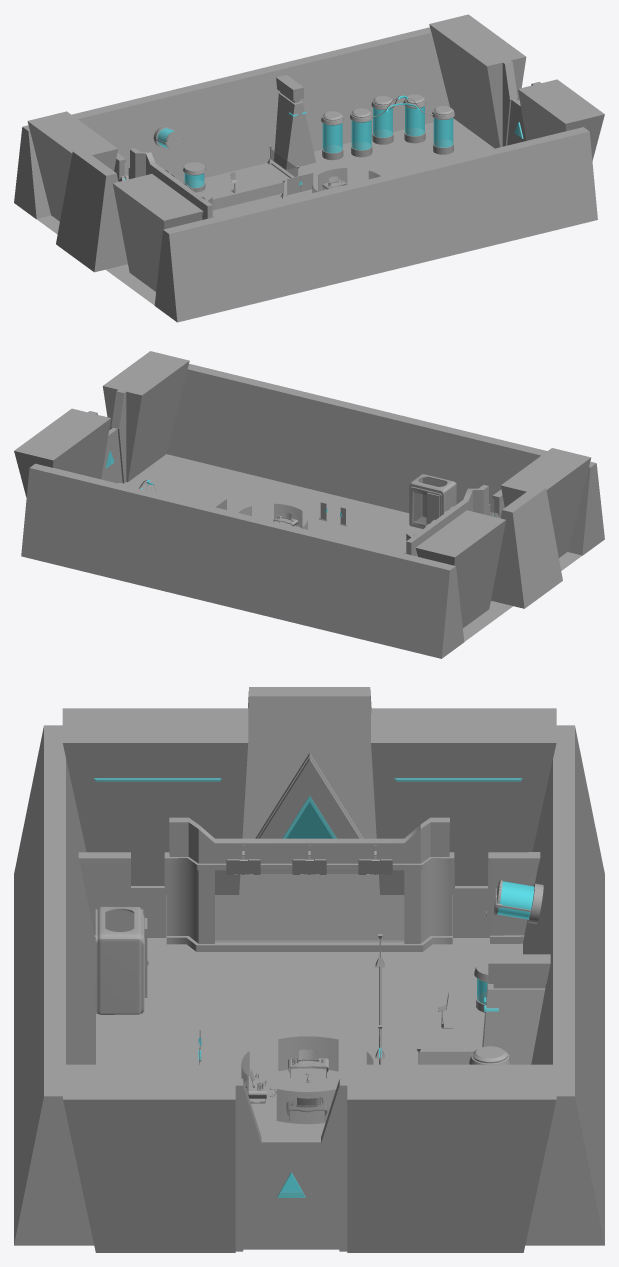
The model's file is L1_RM1_Models with UVs.fbx.
3 renders of one model, top to bottom at view 1: azimuth 30°, elevation 25°; view 2: azimuth 150°, elevation 25°; view 3: azimuth 270°, elevation 25°, orthographic. The views are drawn at different scales.
Visible parts, largest first — view 1: L1_RM1_wall_right, L1_RM1_wall_left, L1_RM1_wall_front, L1_RM1_ground, L1_RM1_door_left_wall1, L1_RM1_door_right_wall, L1_RM1_wall, level_1_rm1_observation_room_wall_middle_mid, L1_RM1_rail_long_glass, L1_RM1_cultivation_tanks_style02_1_frame, L1_RM1_cultivation_tanks_style02_4frame, L1_RM1_cultivation_tanks_style02_1_glass (+13 smaller); view 2: L1_RM1_wall_left, L1_RM1_wall_right, L1_RM1_wall_front, L1_RM1_ground, L1_RM1_door_right_wall, L1_RM1_door_left_wall1, level_1_rm1_observation_room_wall_middle_mid, L1_RM1_door_right, level_1_rm1_observation_room_wall_middle_right, L1_RM1_desk_glass, L1_RM1_cultivation_tanks_style04_big_top_low, L1_RM1_cultivation_tanks_style04; view 3: L1_RM1_wall_front, L1_RM1_ground, L1_RM1_door_left_wall1, L1_RM1_wall_right, L1_RM1_door_right_wall, L1_RM1_wall_left, L1_RM1_observation_room_glass, level_1_rm1_observation_room_wall_middle_mid, L1_RM1_wall, L1_RM1_door_right, L1_RM1_door_left, level_1_rm1_observation_room_wall_middle_right (+11 smaller).
Boxes of the visible parts, x1=… form: L1_RM1_wall_right: x1=154, y1=127, x2=597, y2=322; L1_RM1_wall_left: x1=14, y1=27, x2=449, y2=219; L1_RM1_wall_front: x1=27, y1=111, x2=203, y2=291; L1_RM1_ground: x1=36, y1=118, x2=494, y2=305; L1_RM1_door_left_wall1: x1=429, y1=14, x2=526, y2=148; L1_RM1_door_right_wall: x1=518, y1=79, x2=604, y2=160; L1_RM1_wall: x1=274, y1=75, x2=315, y2=169; level_1_rm1_observation_room_wall_middle_mid: x1=146, y1=152, x2=213, y2=216; L1_RM1_rail_long_glass: x1=213, y1=183, x2=283, y2=210; L1_RM1_cultivation_tanks_style02_1_frame: x1=350, y1=98, x2=398, y2=157; L1_RM1_cultivation_tanks_style02_4frame: x1=408, y1=97, x2=454, y2=154; L1_RM1_cultivation_tanks_style02_1_glass: x1=351, y1=120, x2=371, y2=150; L1_RM1_wall_left: x1=21, y1=463, x2=464, y2=658; L1_RM1_wall_right: x1=166, y1=363, x2=604, y2=555; L1_RM1_wall_front: x1=415, y1=448, x2=591, y2=627; L1_RM1_ground: x1=124, y1=454, x2=581, y2=641; L1_RM1_door_right_wall: x1=102, y1=351, x2=189, y2=483; L1_RM1_door_left_wall1: x1=14, y1=408, x2=110, y2=497; level_1_rm1_observation_room_wall_middle_mid: x1=405, y1=489, x2=472, y2=552; L1_RM1_door_right: x1=108, y1=427, x2=122, y2=483; level_1_rm1_observation_room_wall_middle_right: x1=468, y1=485, x2=490, y2=515; L1_RM1_desk_glass: x1=238, y1=504, x2=307, y2=529; L1_RM1_cultivation_tanks_style04_big_top_low: x1=409, y1=474, x2=455, y2=495; L1_RM1_cultivation_tanks_style04: x1=410, y1=486, x2=441, y2=528; L1_RM1_wall_front: x1=62, y1=687, x2=556, y2=894; L1_RM1_ground: x1=96, y1=874, x2=522, y2=1191; L1_RM1_door_left_wall1: x1=321, y1=1064, x2=556, y2=1252; L1_RM1_wall_right: x1=14, y1=725, x2=95, y2=1245; L1_RM1_door_right_wall: x1=63, y1=1064, x2=261, y2=1252; L1_RM1_wall_left: x1=523, y1=725, x2=604, y2=1245; L1_RM1_observation_room_glass: x1=215, y1=870, x2=403, y2=941; level_1_rm1_observation_room_wall_middle_mid: x1=196, y1=825, x2=422, y2=951; L1_RM1_wall: x1=482, y1=954, x2=550, y2=1064; L1_RM1_door_right: x1=243, y1=1138, x2=291, y2=1249; L1_RM1_door_left: x1=291, y1=1138, x2=338, y2=1249; level_1_rm1_observation_room_wall_middle_right: x1=164, y1=817, x2=198, y2=951.
Bounding box in the file's own units: 5865 × 1233 × 3595.
